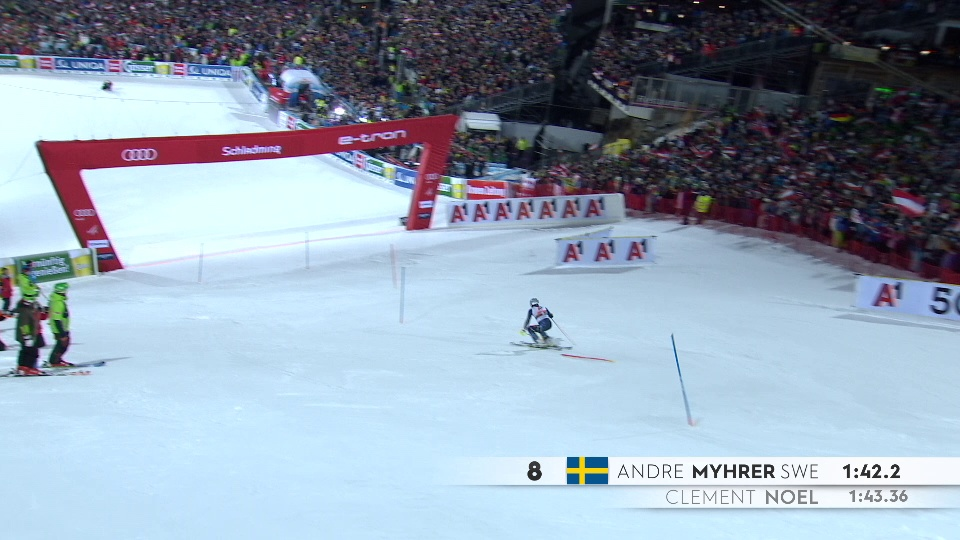5g: (930, 286, 959, 321)
a1: (872, 282, 910, 312), (561, 241, 592, 266), (594, 239, 623, 265), (626, 239, 656, 263), (586, 197, 612, 218), (450, 203, 472, 226), (564, 198, 586, 219), (540, 199, 561, 219), (496, 200, 515, 221), (474, 201, 491, 223), (518, 200, 536, 220)
audi: (119, 148, 161, 166)
etron: (336, 129, 411, 147)
goesser: (16, 255, 84, 282)
kronenzeitung: (222, 142, 283, 161)
uniqa: (190, 64, 235, 78)
